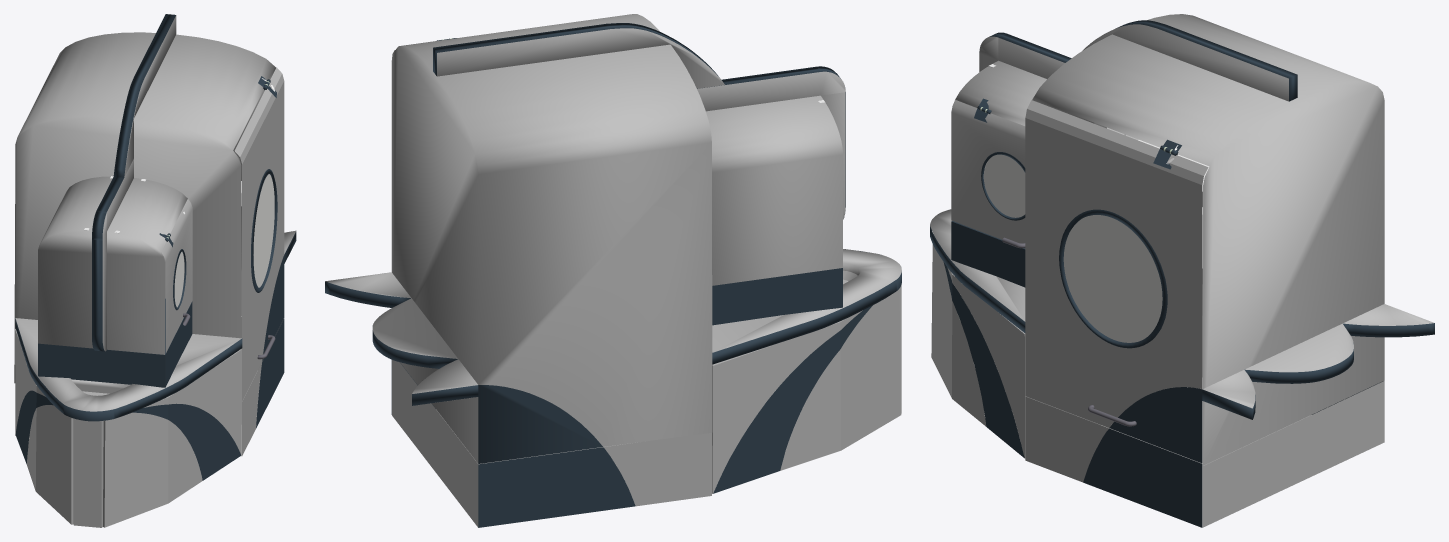
File: redo-optimized-compressed.glb
The picture shows the model from 3 angles, left to right: view 1: azimuth 30°, elevation 25°; view 2: azimuth 150°, elevation 25°; view 3: azimuth 270°, elevation 25°; orthographic projection. The views are drawn at different scales.
Parts seen in each view (by area): view 1: Cube3680_4, Cube3680_5; view 2: Cube3680_4, Cube3680_5; view 3: Cube3680_4, Cube3680_5.
Boxes of the visible parts, left/top/right/bottom form: Cube3680_4: left=14, top=15, right=296, bottom=527; Cube3680_5: left=15, top=14, right=296, bottom=480; Cube3680_4: left=325, top=14, right=901, bottom=527; Cube3680_5: left=325, top=23, right=901, bottom=527; Cube3680_4: left=930, top=14, right=1433, bottom=527; Cube3680_5: left=930, top=20, right=1434, bottom=527.
Bounding box in the file's own units: 11.15 × 10.52 × 11.78.
Materials: 5 (3 with a texture image).
